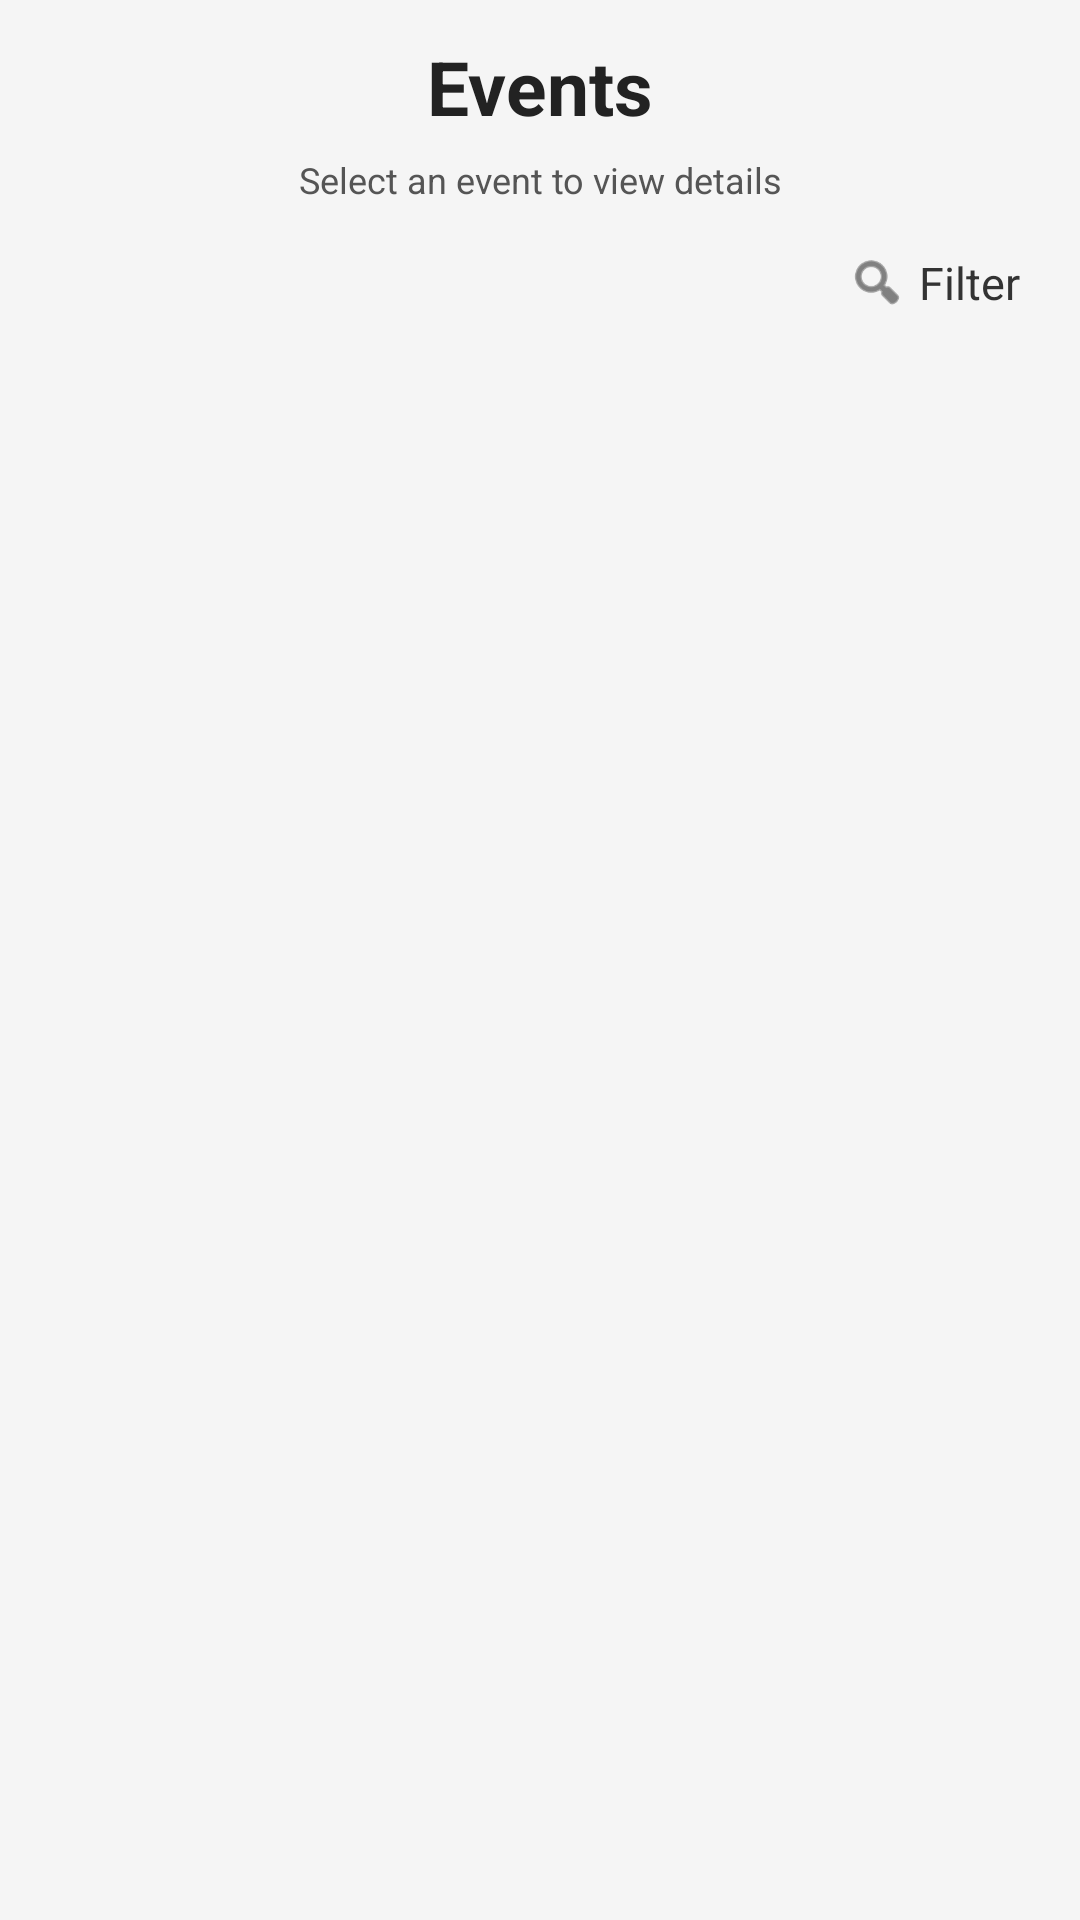

Named icons in this screenshot (1080 x 1920) and their centers, (x=x, y=y):
search: (x=877, y=282)
